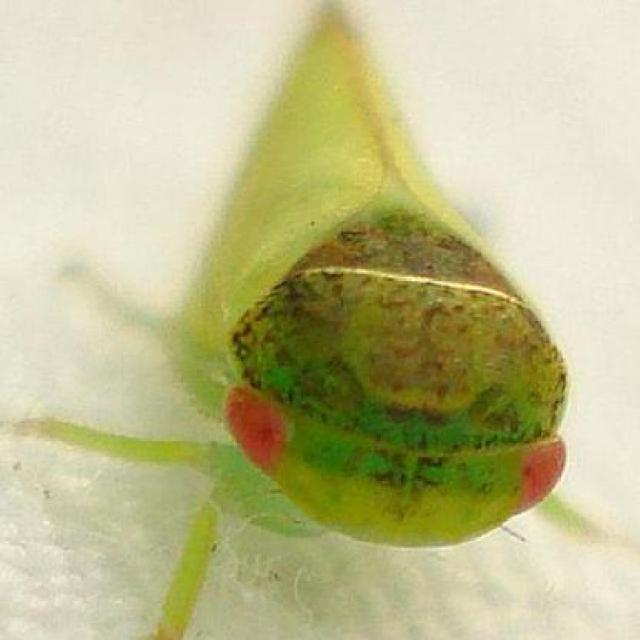green-leafhopper: (186, 16, 569, 542)
